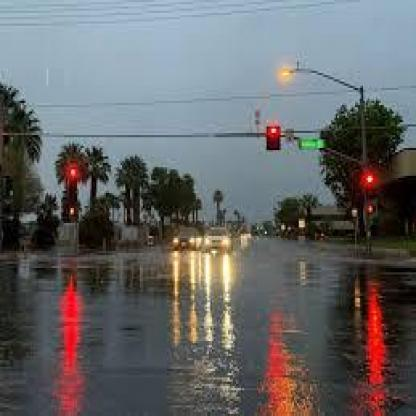other: (261, 309, 303, 403), (167, 227, 237, 279), (60, 269, 82, 404), (362, 283, 386, 380), (357, 160, 376, 223), (262, 116, 282, 156), (274, 59, 293, 86), (61, 160, 78, 187)
